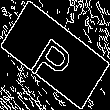P_NE: (28, 24, 82, 86)
